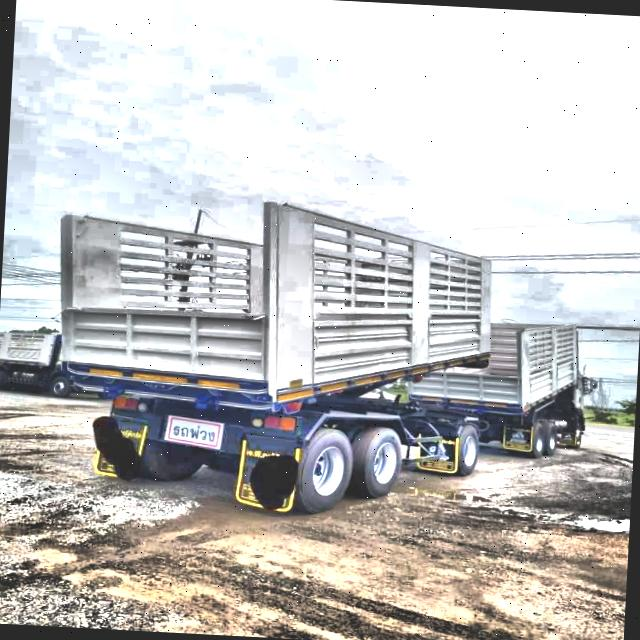trailer: (34, 180, 626, 542)
